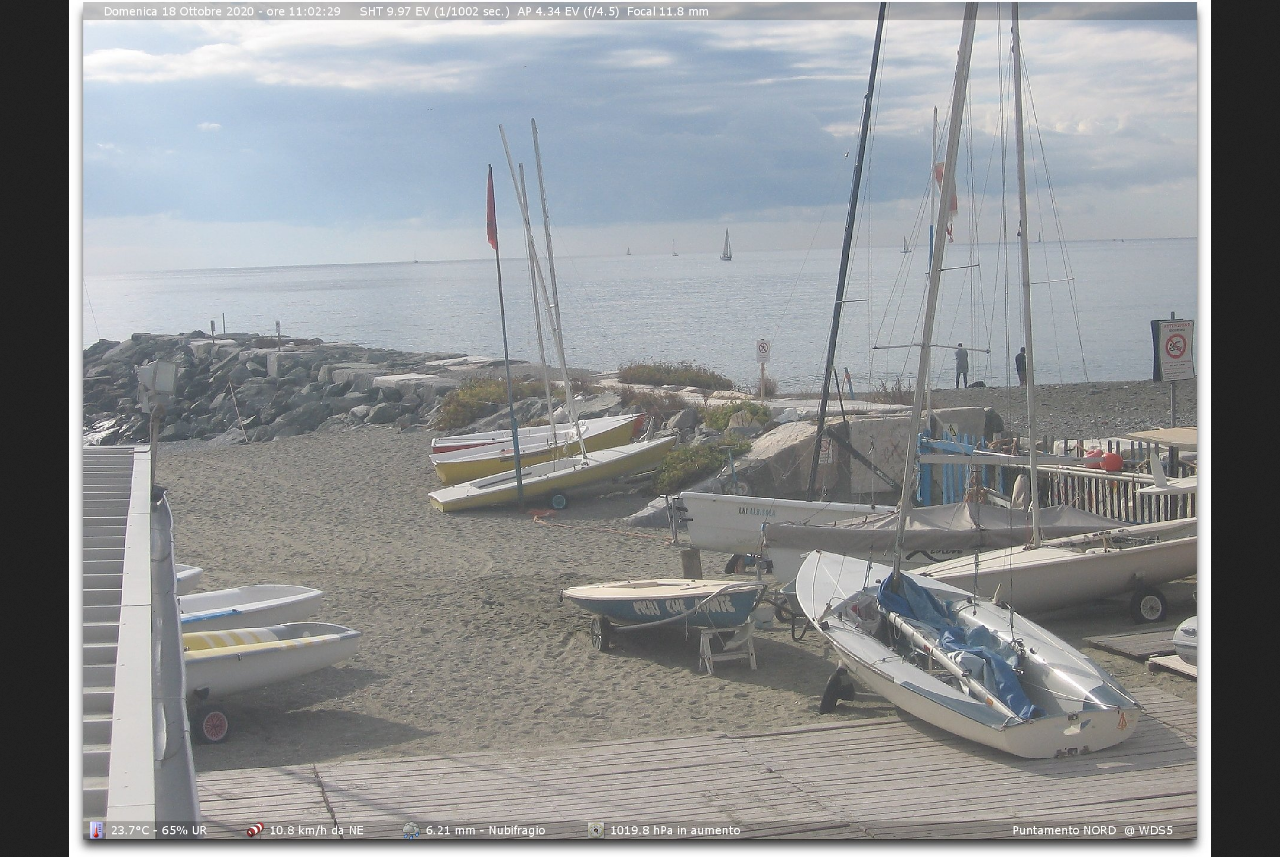no: (483, 166, 502, 252)
